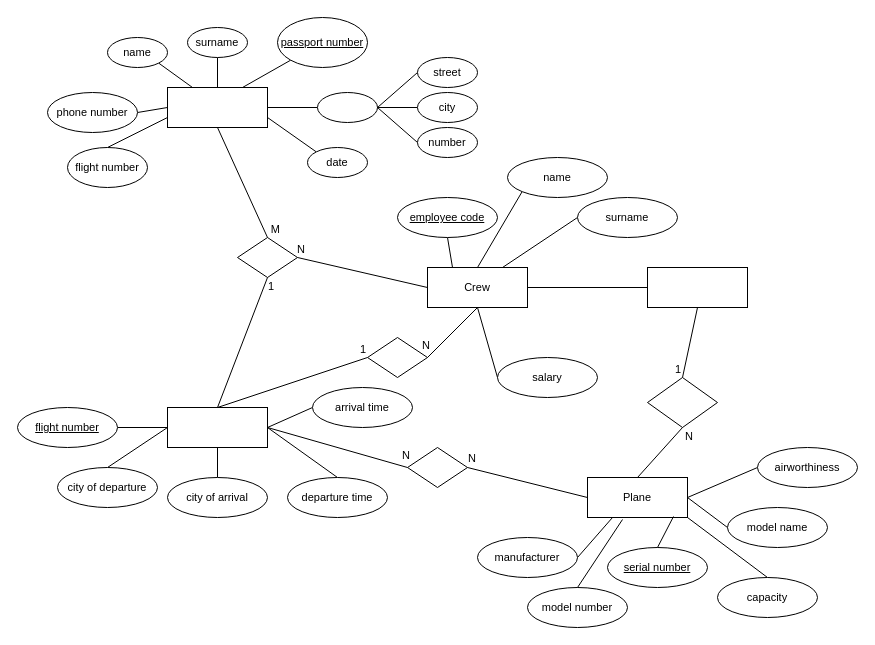
This 875x645 diagram has some shape labels left out. The centre of each missing label's shape, as x and y in pixels:
"address" goes at point (347, 107).
"canPilot" goes at point (682, 402).
"Flight" goes at point (217, 427).
"owns" goes at point (437, 467).
"Passenger" goes at point (217, 107).
"Pilot" goes at point (697, 287).
"work" goes at point (397, 357).
